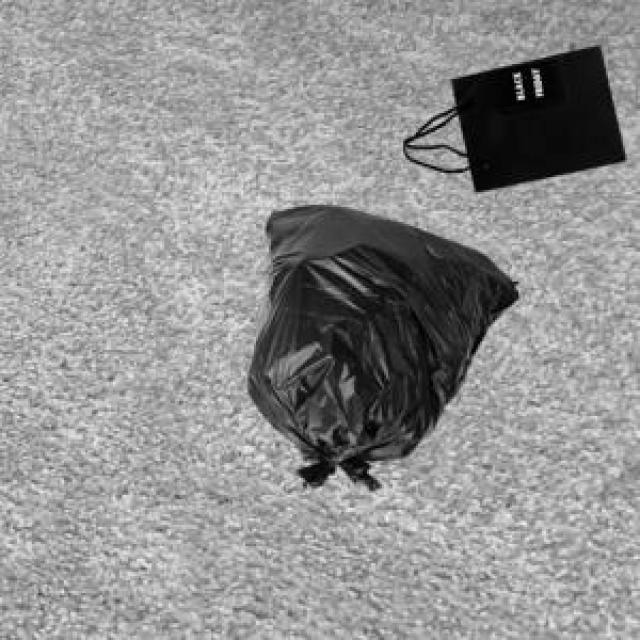miscellaneous trash: (243, 201, 514, 486)
paper: (399, 43, 621, 188)
